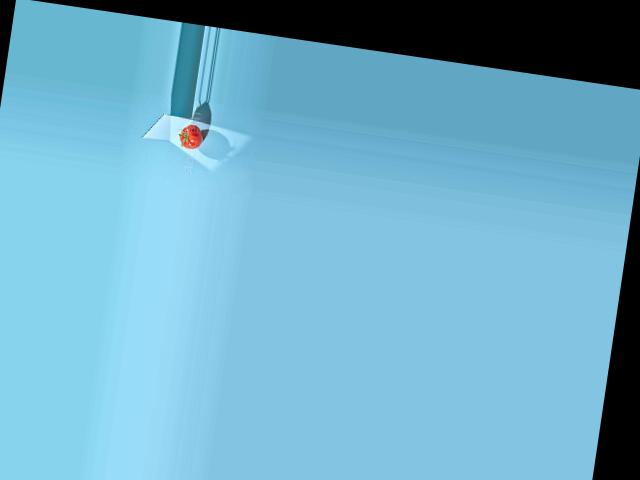tomato: (178, 122, 204, 150)
